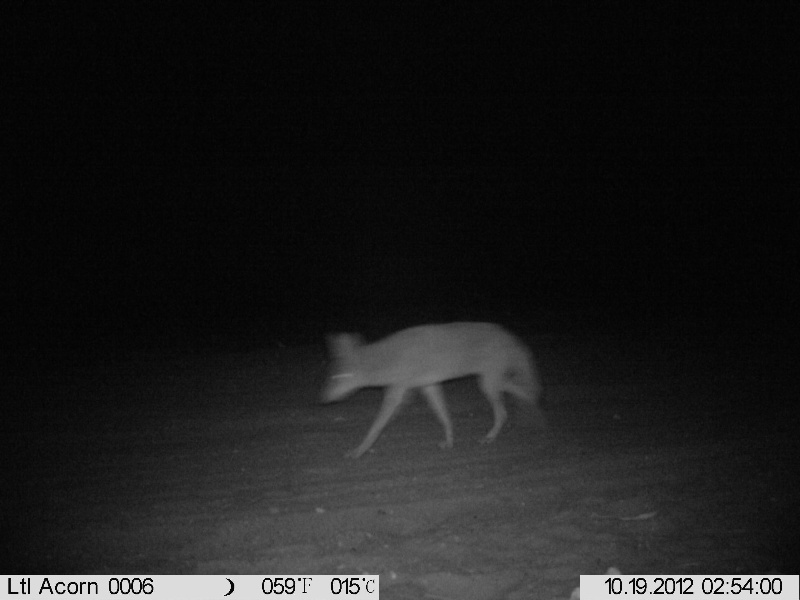coyote: (316, 319, 554, 451)
